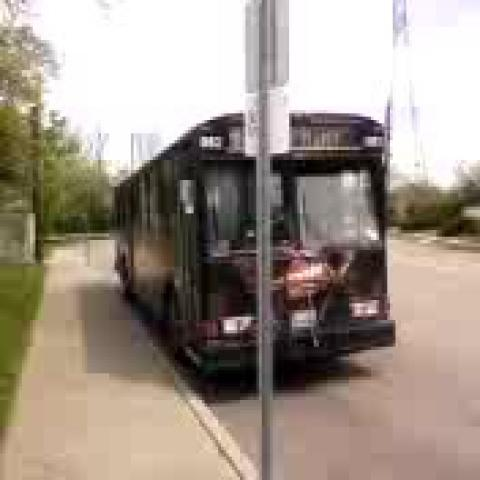bus: (114, 113, 398, 376)
